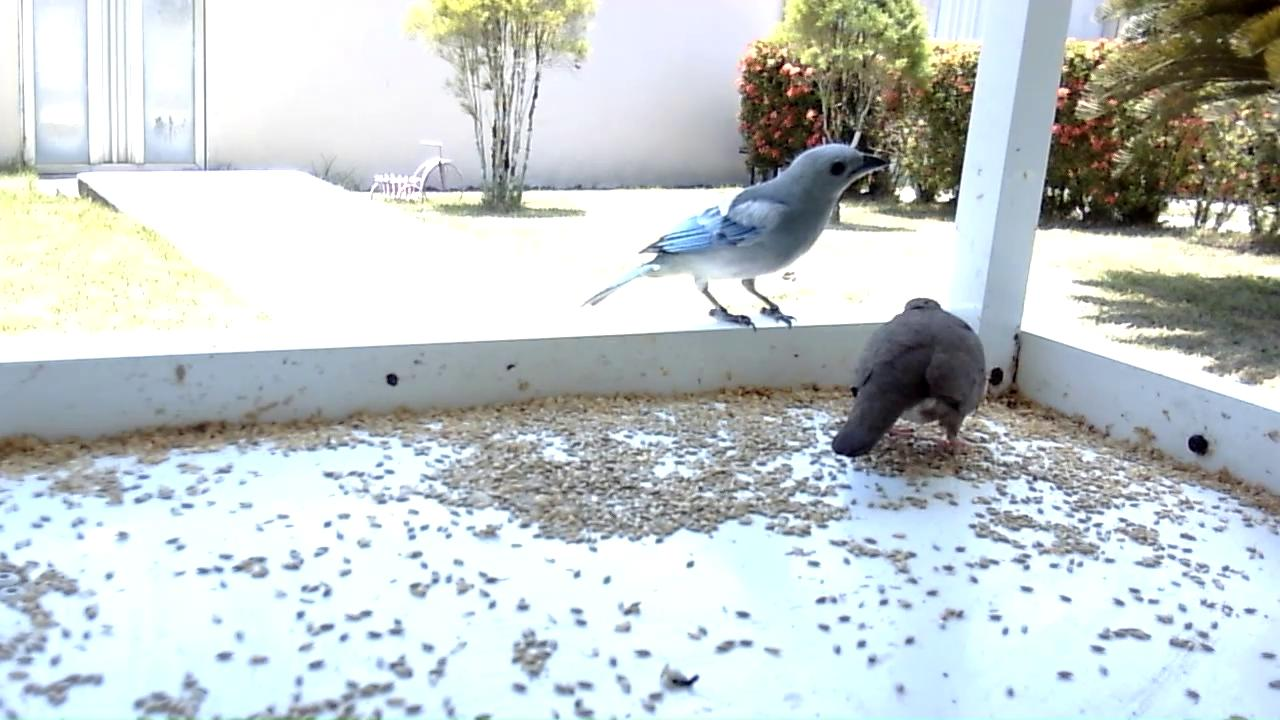rolinha: (833, 298, 990, 462)
sanhaco_da_amazonia: (583, 144, 894, 334)
